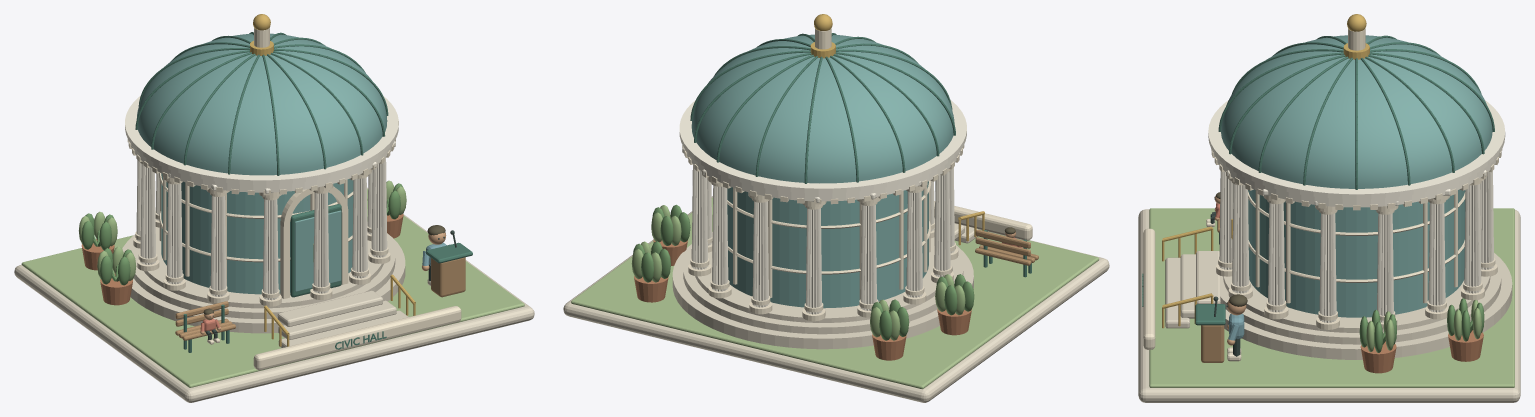
The model's file is civic-hall.glb.
3 views of the same model, side by side, from view 1: azimuth 30°, elevation 25°; view 2: azimuth 150°, elevation 25°; view 3: azimuth 270°, elevation 25° (orthographic). The views are drawn at different scales.
Parts seen in each view (by area): view 1: Glass, Stone Light, Ivory, Grass, Cream, Forest, Wood, Leaf, Clay, Leaf Light, Gold; view 2: Glass, Stone Light, Ivory, Grass, Cream, Forest, Leaf, Leaf Light, Clay, Wood, Gold; view 3: Glass, Stone Light, Ivory, Grass, Cream, Forest, Clay, Gold, Leaf, Leaf Light, Wood, Blue.
Boxes of the visible parts, x1=… form: Glass: x1=136, y1=33, x2=387, y2=294; Stone Light: x1=14, y1=187, x2=534, y2=402; Ivory: x1=125, y1=96, x2=398, y2=300; Grass: x1=21, y1=189, x2=524, y2=387; Cream: x1=127, y1=27, x2=461, y2=370; Forest: x1=135, y1=32, x2=472, y2=352; Wood: x1=175, y1=257, x2=465, y2=340; Leaf: x1=81, y1=183, x2=402, y2=285; Clay: x1=81, y1=214, x2=403, y2=305; Leaf Light: x1=78, y1=180, x2=406, y2=280; Gold: x1=250, y1=14, x2=415, y2=346; Glass: x1=691, y1=34, x2=954, y2=308; Stone Light: x1=563, y1=196, x2=1109, y2=402; Ivory: x1=679, y1=100, x2=966, y2=314; Grass: x1=571, y1=197, x2=1099, y2=389; Cream: x1=682, y1=28, x2=1032, y2=321; Forest: x1=690, y1=33, x2=1031, y2=277; Leaf: x1=633, y1=204, x2=974, y2=340; Leaf Light: x1=631, y1=205, x2=965, y2=340; Clay: x1=634, y1=239, x2=971, y2=360; Wood: x1=975, y1=229, x2=1038, y2=265; Gold: x1=810, y1=14, x2=984, y2=245; Glass: x1=1221, y1=35, x2=1492, y2=317; Stone Light: x1=1138, y1=209, x2=1520, y2=402; Ivory: x1=1208, y1=100, x2=1505, y2=322; Grass: x1=1149, y1=208, x2=1514, y2=387; Cream: x1=1143, y1=28, x2=1502, y2=361; Forest: x1=1142, y1=35, x2=1494, y2=325; Clay: x1=1360, y1=330, x2=1483, y2=373; Gold: x1=1162, y1=14, x2=1369, y2=328; Leaf: x1=1359, y1=298, x2=1484, y2=352; Leaf Light: x1=1366, y1=299, x2=1481, y2=351; Wood: x1=1201, y1=217, x2=1224, y2=362; Blue: x1=1228, y1=313, x2=1244, y2=340.
Bounding box in the file's own units: 8 × 6.03 × 7.
